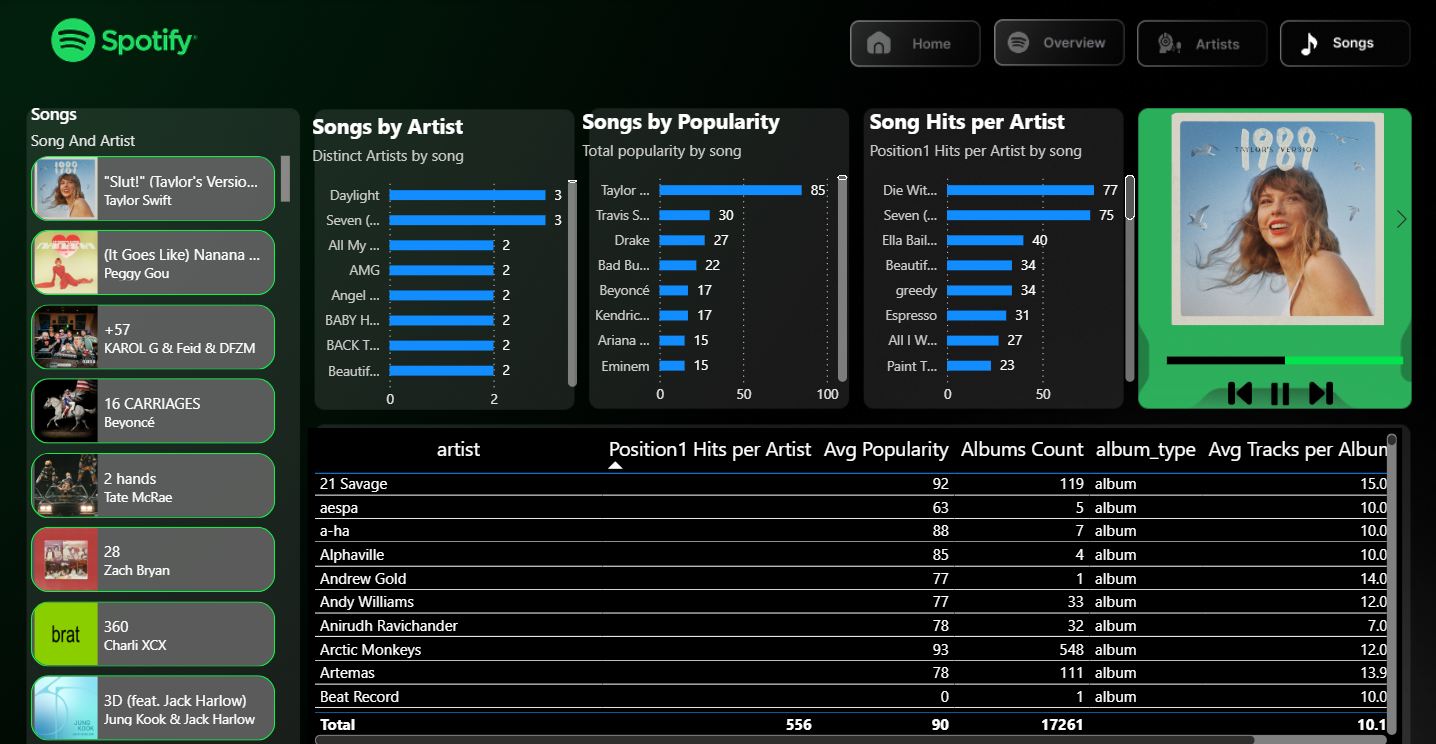

Layout of this report page (visuals, bound fields, positions):
{"tool":"powerbi","page":{"name":"Song","canvas":[1280,720],"ordinal":3},"visuals":[{"type":"actionButton","box":[759.2,31,116.2,40],"z":0},{"type":"actionButton","box":[1009.2,31,116.2,40],"z":1000},{"type":"actionButton","box":[1140.5,31,116.2,40],"z":2000},{"type":"actionButton","box":[886.7,31,111.2,40],"z":3000},{"type":"advancedSlicerVisual","title":"Songs","fields":{"Values":["Top-50-World.song"]},"box":[1010.8,109,251.2,201.2],"z":4000},{"type":"hundredPercentStackedBarChart","fields":{"Y":["_Measure.Avg Popularity","Avg(Top-50-World.popularity)"]},"box":[1033.3,300.2,220,65],"z":5000},{"type":"image","box":[1163.8,352.2,23.8,25],"z":6000},{"type":"image","box":[1091.3,352.2,23.8,25],"z":7000},{"type":"image","box":[1114.5,347.7,48.8,35],"z":8000},{"type":"advancedSlicerVisual","title":"Songs","fields":{"Values":["Top-50-World.song"]},"box":[23.8,105,240,580],"z":9000},{"type":"tableEx","fields":{"Values":["Top-50-World.artist","_Measure.Position1 Hits per Artist","_Measure.Avg Popularity","_Measure.Albums Count","Top-50-World.album_type","_Measure.Avg Tracks per Album","_Measure.Distinct Songs"]},"box":[274.3,395.7,972.9,287.1],"z":10000},{"type":"clusteredBarChart","title":"Songs by Artist","fields":{"Category":["Top-50-World.song"],"Y":["_Measure.Distinct Artists"]},"box":[273.8,114.3,245.6,273.1],"z":11000},{"type":"clusteredBarChart","title":"Songs by Popularity","fields":{"Category":["Top-50-World.artist"],"Y":["_Measure.Distinct Songs"]},"box":[513.8,110.3,245.6,273.1],"z":12000},{"type":"clusteredBarChart","title":"Song Hits per Artist","fields":{"Category":["Top-50-World.song"],"Y":["_Measure.Position1 Hits per Artist"]},"box":[769,110.3,245.6,273.1],"z":13000}]}

Visuals, with their boxes on the page's 1280x720 design canvas (x1, y1, x2, y2). These are canvas units, not pixel positions in the 1436x744 screenshot, which may show the page scaled, cropped or inside an application window:
actionButton: rect(759, 31, 875, 71)
actionButton: rect(1009, 31, 1125, 71)
actionButton: rect(1140, 31, 1257, 71)
actionButton: rect(887, 31, 998, 71)
"Songs" advancedSlicerVisual: rect(1011, 109, 1262, 310)
hundredPercentStackedBarChart - _Measure.Avg Popularity x Avg(Top-50-World.popularity): rect(1033, 300, 1253, 365)
image: rect(1164, 352, 1188, 377)
image: rect(1091, 352, 1115, 377)
image: rect(1114, 348, 1163, 383)
"Songs" advancedSlicerVisual: rect(24, 105, 264, 685)
tableEx - Top-50-World.artist x _Measure.Position1 Hits per Artist: rect(274, 396, 1247, 683)
"Songs by Artist" clusteredBarChart: rect(274, 114, 519, 387)
"Songs by Popularity" clusteredBarChart: rect(514, 110, 759, 383)
"Song Hits per Artist" clusteredBarChart: rect(769, 110, 1015, 383)
